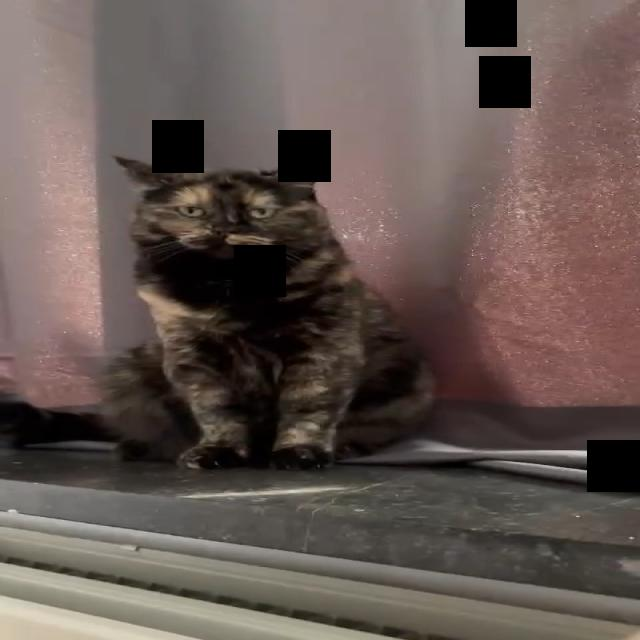authorized: (99, 151, 438, 470)
